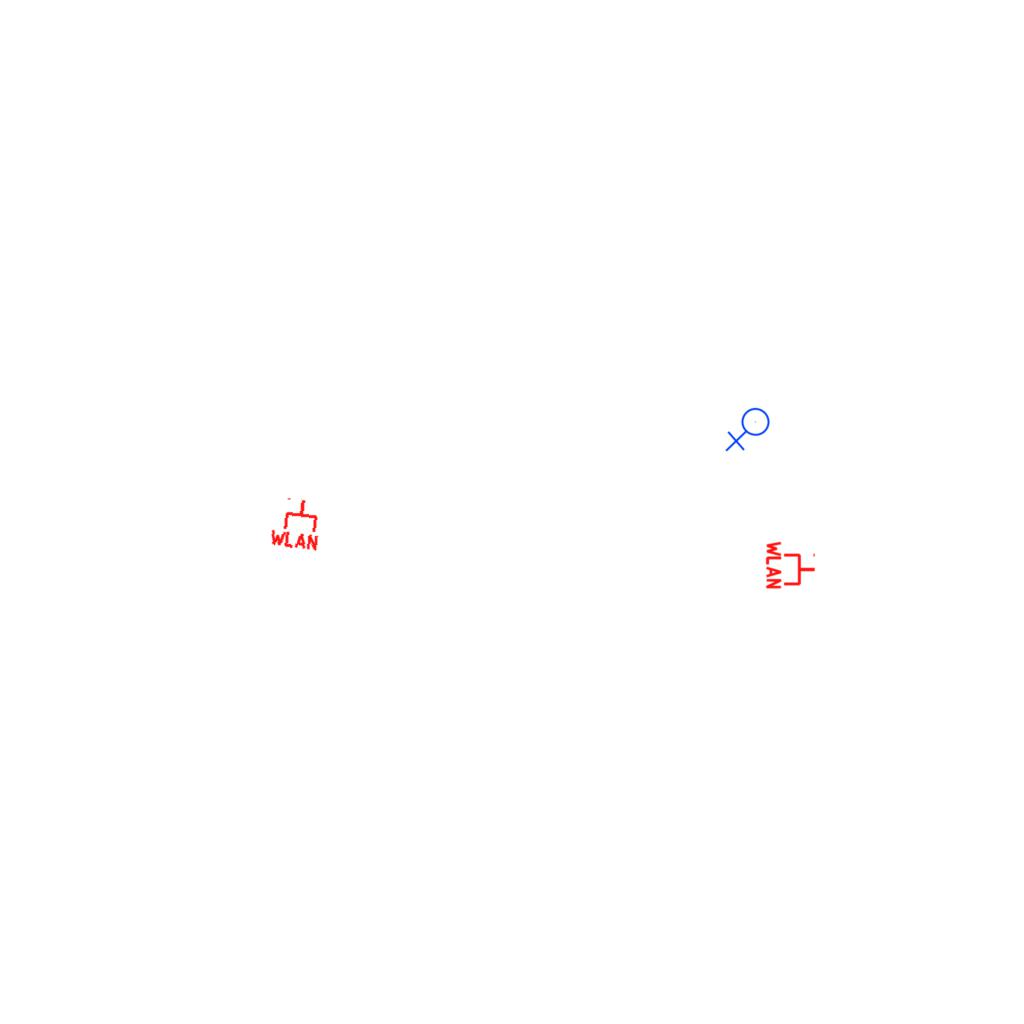Elektroanschluss_allgemein_230V_Geraeteanschlussdose_230V: (725, 407, 774, 454)
WLAN: (267, 494, 325, 552), (765, 539, 817, 591)
